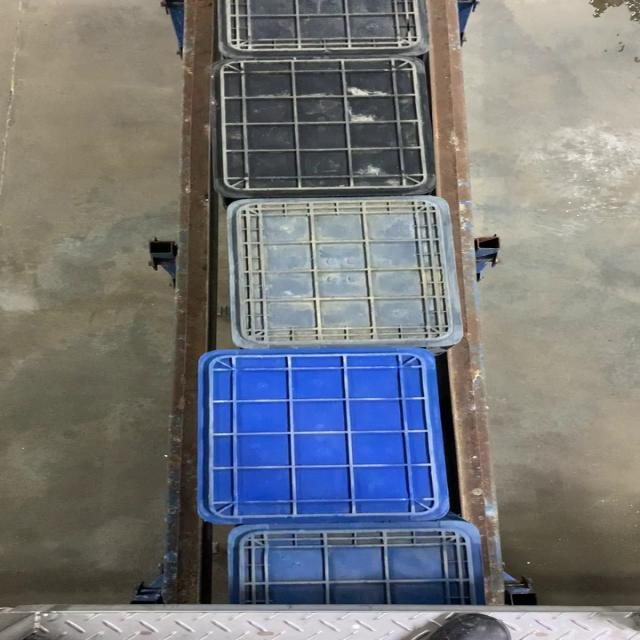Box: (197, 349, 455, 521), (218, 198, 472, 346), (213, 55, 437, 197)
